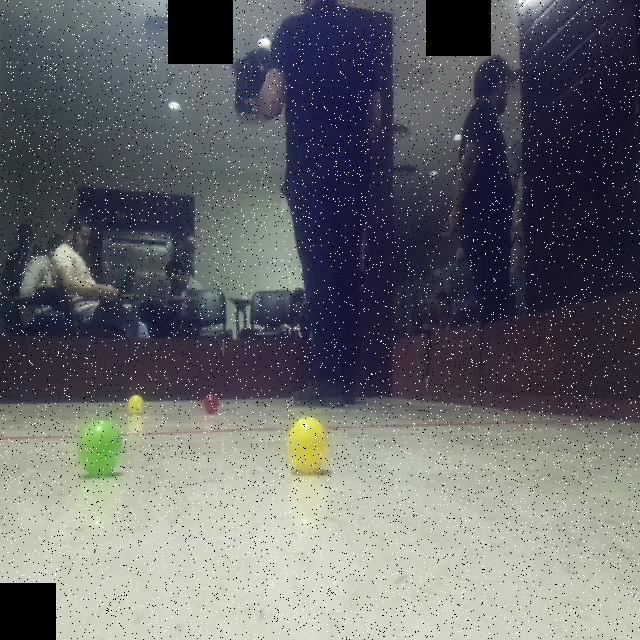ball: (286, 411, 330, 479), (80, 415, 125, 476), (200, 392, 222, 415), (125, 394, 146, 415)
